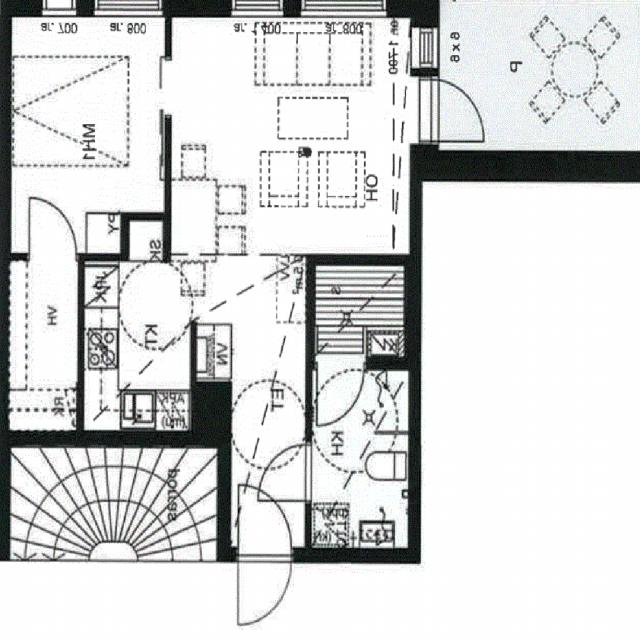door: (408, 80, 491, 141), (239, 484, 293, 562), (239, 546, 293, 624), (258, 444, 312, 500), (318, 358, 364, 423), (30, 200, 76, 262)
